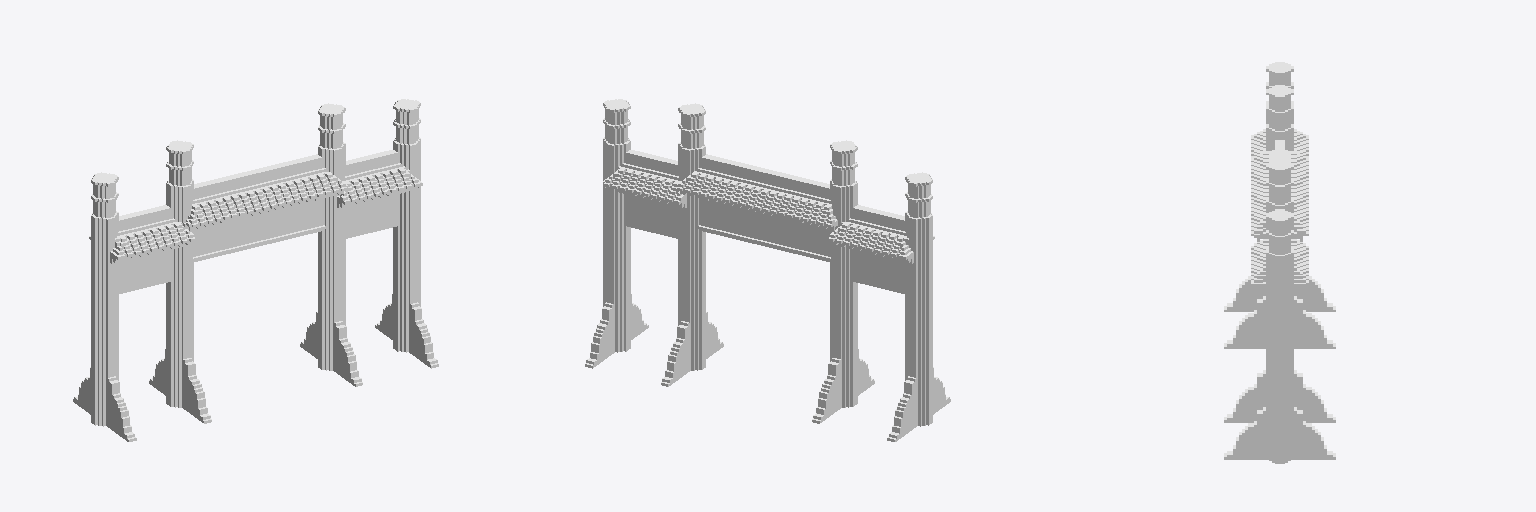
Rendered from paifang.obj.
The picture shows the model from 3 angles: view 1: azimuth 30°, elevation 25°; view 2: azimuth 150°, elevation 25°; view 3: azimuth 270°, elevation 25°; orthographic projection.
Bounding box in the file's own units: 125 × 94 × 37.